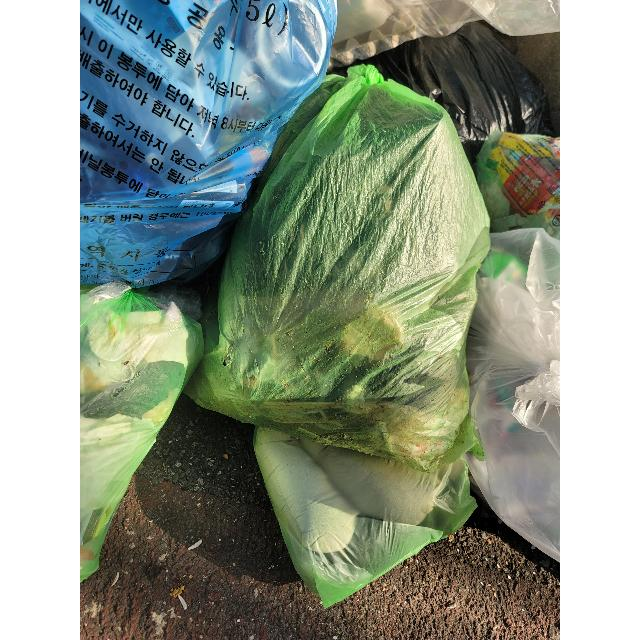general_trashbag: (185, 65, 490, 471), (254, 428, 476, 608), (80, 282, 204, 580), (476, 131, 560, 239)
other_trashbag: (80, 0, 336, 288), (465, 229, 560, 560), (365, 21, 554, 164), (329, 0, 560, 68)
